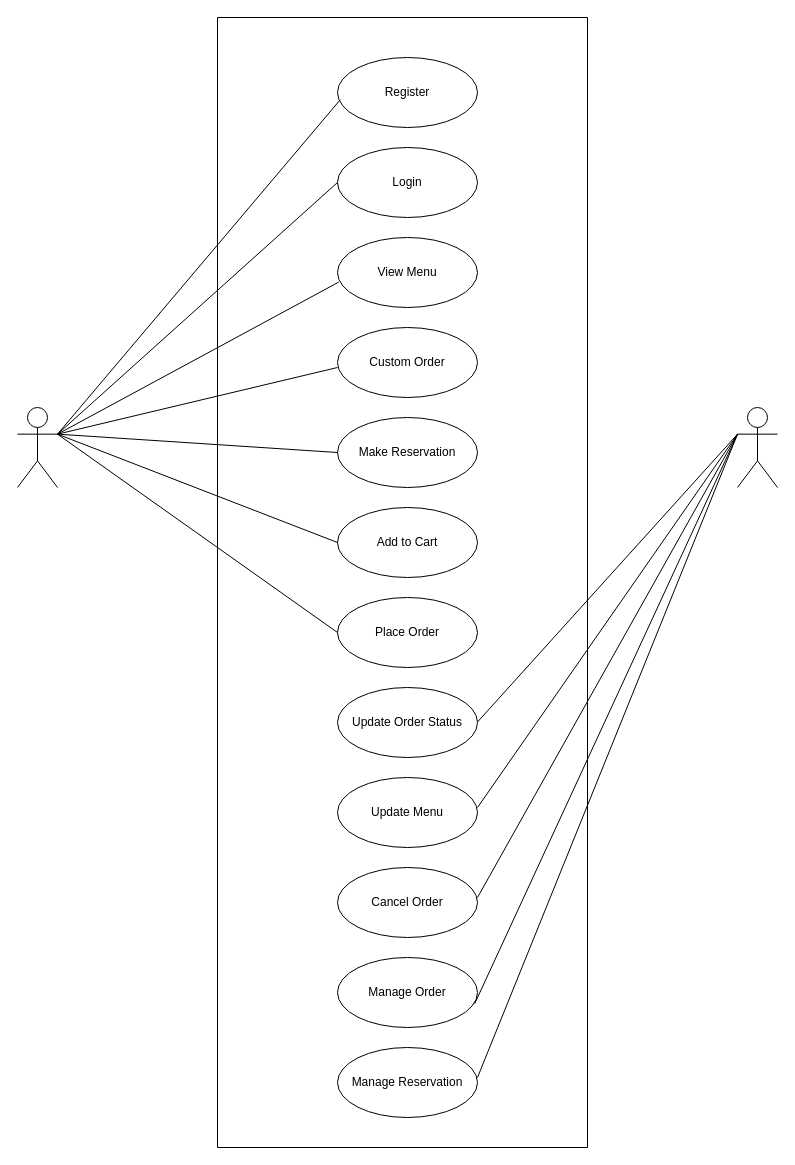
Image size: 795x1165. Some labels were removed from this diagram. The centre of each missing label's shape, as x and y in pixels:
Admin: [757,447]
User: [37,447]
